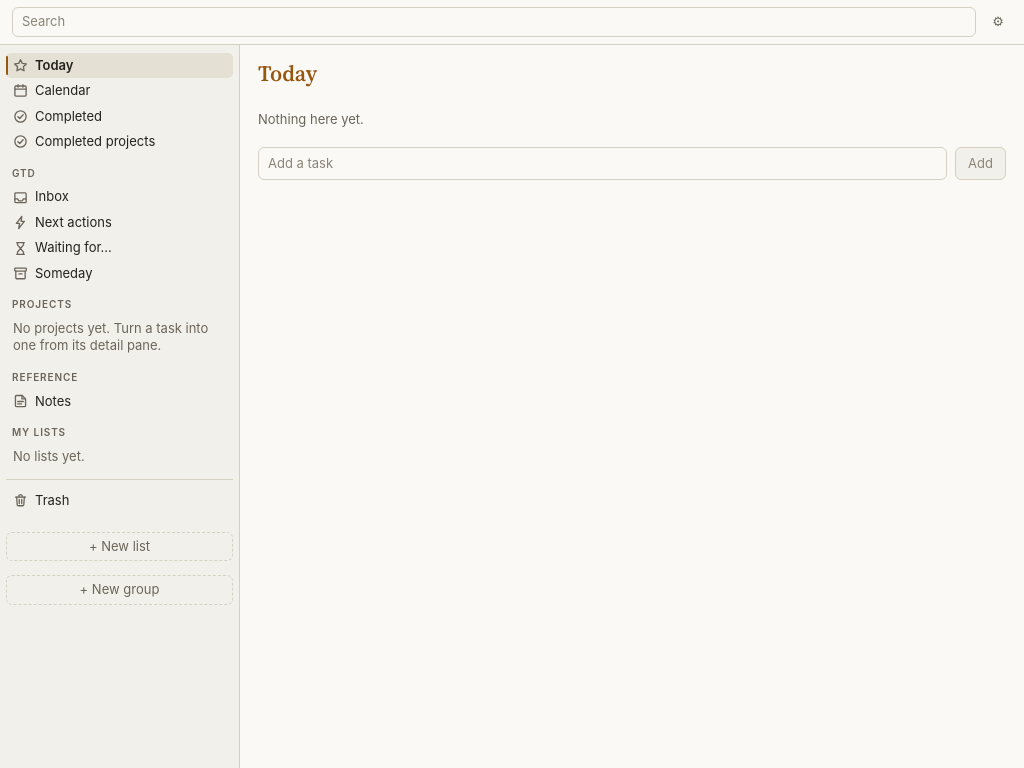
Test: Completed projects, composed › showsItsEmptyStateOnAFreshDocument
The width and height of the screenshot is (1024, 768).
Click the button "Completed projects".
click(120, 142)  # box [6,129,233,155]
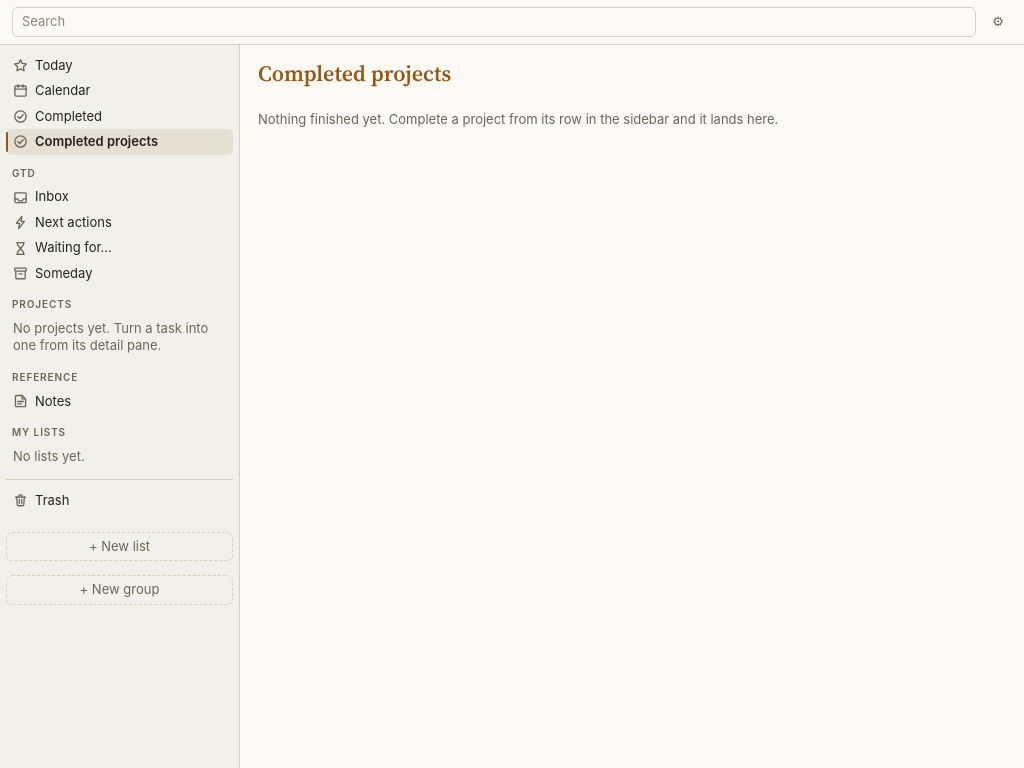
Check: the heading "Completed projects" is shown, box [258,58,451,88]
Check: the text "Nothing finished yet" is shown, box [258,111,778,127]
